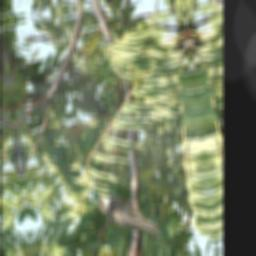Cuckoo: (96, 180, 164, 252)
